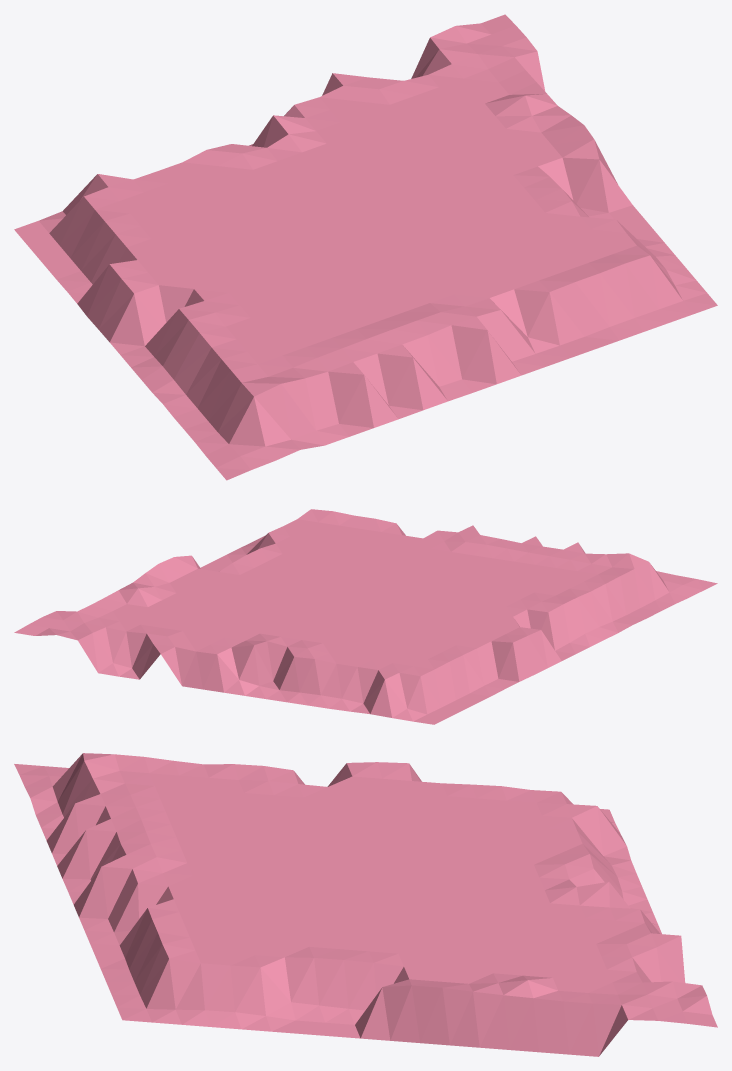
File: PM3D_waterland_2fbx_2.fbx
The picture shows the model from 3 angles, top to bottom: view 1: azimuth 30°, elevation 25°; view 2: azimuth 150°, elevation 25°; view 3: azimuth 270°, elevation 25°; orthographic projection. The views are drawn at different scales.
Parts seen in each view (by area): view 1: PM3D_waterland_2obj; view 2: PM3D_waterland_2obj; view 3: PM3D_waterland_2obj.
Boxes of the visible parts, bbox=[...] form: PM3D_waterland_2obj: bbox=[14, 14, 717, 480]; PM3D_waterland_2obj: bbox=[14, 509, 717, 724]; PM3D_waterland_2obj: bbox=[14, 753, 717, 1056].
Size of the model in its own units: 30.75 by 2.33 by 30.27.
